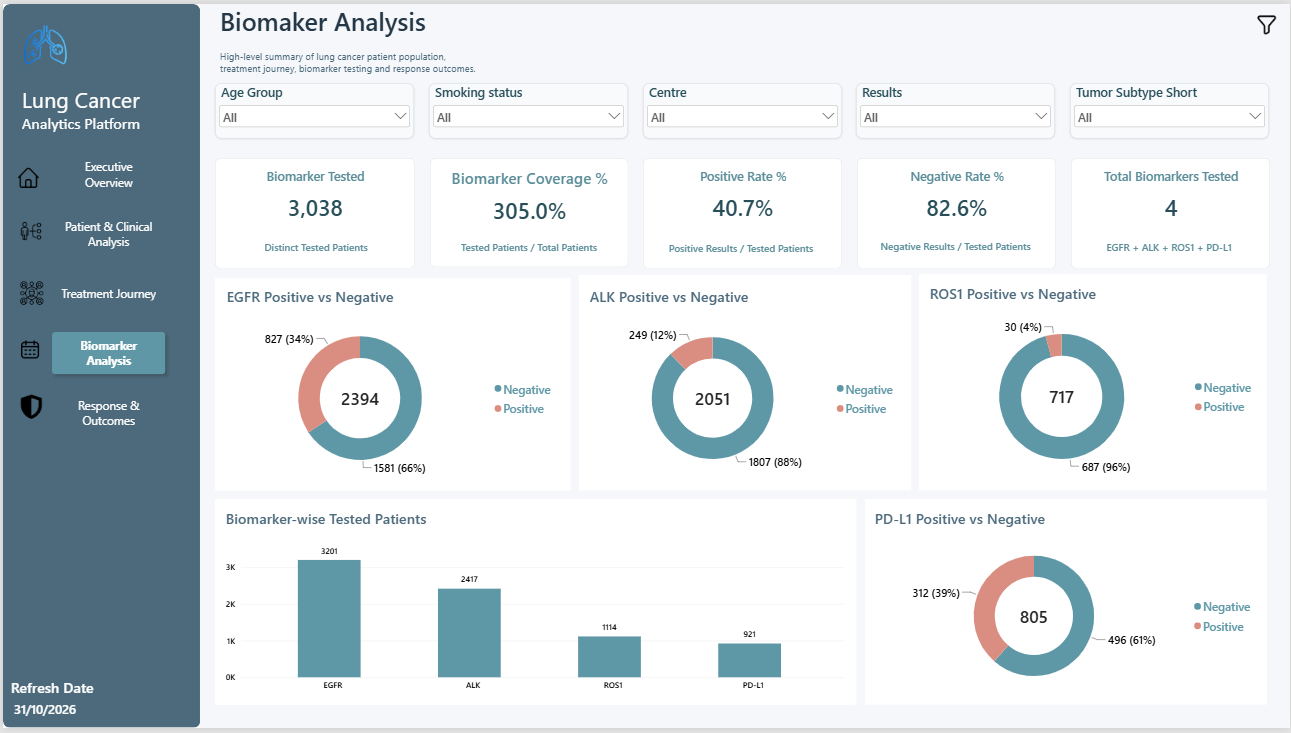

Layout of this report page (visuals, bound fields, positions):
{"tool":"powerbi","page":{"name":"Biomarker Analysis","canvas":[1920,1080],"ordinal":3},"visuals":[{"type":"shape","title":"Plane","box":[0,0,294.5,1080.4],"z":0,"group":"g1"},{"type":"group","id":"g1","title":"Filter Plane","box":[0,0,294.5,1080.4],"z":0,"group":"g4"},{"type":"slicer","fields":{"Values":["Dim_Patient.Tumor Subtype Short"]},"box":[1592.2,118.1,297,82.9],"z":0,"group":"g6"},{"type":"cardVisual","fields":{"Data":["overall_biomarker.Biomarker Tested"]},"box":[316.3,229.7,298.7,165.8],"z":0,"group":"g3"},{"type":"image","box":[24.1,302.3,36.3,72.7],"z":0,"group":"g2"},{"type":"shape","box":[859.9,404.8,495.8,321.5],"z":0},{"type":"shape","box":[1285.4,738.6,600.1,306.9],"z":0,"group":"g5"},{"type":"textbox","box":[11.4,1006.2,174.9,31.8],"z":0,"group":"g7"},{"type":"image","box":[27.8,16.7,69.7,89.1],"z":1000,"group":"g1"},{"type":"slicer","fields":{"Values":["overall_biomarker.Results"]},"box":[1273.2,118.1,297,82.9],"z":1000,"group":"g6"},{"type":"pageNavigator","box":[63.6,213.8,187.1,438.2],"z":1000,"group":"g4"},{"type":"shape","box":[1367.4,402.9,519.1,323.4],"z":1000},{"type":"image","box":[24.1,576.5,36.6,50.4],"z":1000,"group":"g2"},{"type":"donutChart","title":"PD-L1 Positive vs Negative","fields":{"Category":["overall_biomarker.Results"],"Y":["Count(overall_biomarker.patient id)"]},"box":[1284.5,738.8,602.1,306.9],"z":1000,"group":"g5"},{"type":"cardVisual","fields":{"Data":["Dim_Patient.Refresh Date Display"]},"box":[0,1038,156.7,31],"z":1000,"group":"g7"},{"type":"textbox","box":[323.5,0,655.7,109.8],"z":2000},{"type":"slicer","fields":{"Values":["Dim_Patient.Smoking status (Smoker, Nonsmoker, Exsmoker)"]},"box":[635.1,118.1,297,82.9],"z":2000,"group":"g6"},{"type":"textbox","box":[27.8,120.5,183.4,92.7],"z":2000,"group":"g1"},{"type":"image","box":[23.1,228.2,31.4,61.6],"z":2000,"group":"g2"},{"type":"cardVisual","fields":{"Data":["overall_biomarker.Negative Rate %"]},"box":[1274.1,229.7,297.9,165],"z":2000,"group":"g3"},{"type":"slicer","fields":{"Values":["Dim_Patient.Age Group"]},"box":[315.7,118.1,297.4,83.3],"z":3000,"group":"g6"},{"type":"group","id":"g2","title":"Group 3","box":[23.1,228.2,37.6,398.6],"z":3000,"group":"g1"},{"type":"cardVisual","fields":{"Data":["overall_biomarker.Positive Rate %"]},"box":[954.8,229.7,297.9,165.8],"z":3000,"group":"g3"},{"type":"image","box":[25.9,405.8,34.8,50.4],"z":3000,"group":"g2"},{"type":"shape","box":[315.7,408.7,530.7,317.6],"z":3000},{"type":"slicer","fields":{"Values":["Dim_Patient.Centre "]},"box":[954.1,118.1,297,82.9],"z":4000,"group":"g6"},{"type":"cardVisual","fields":{"Data":["overall_biomarker.Total Biomarkers Tested"]},"box":[1593.4,229.7,297.9,165.8],"z":4000,"group":"g3"},{"type":"donutChart","title":"ALK Positive vs Negative","fields":{"Category":["overall_biomarker.Results"],"Y":["Count(overall_biomarker.patient id)"]},"box":[859.9,406.7,493.9,319.6],"z":4000},{"type":"image","box":[27.7,481.3,27.5,67.2],"z":4000,"group":"g2"},{"type":"donutChart","title":"ROS1 Positive vs Negative","fields":{"Category":["overall_biomarker.Results"],"Y":["Count(overall_biomarker.patient id)"]},"box":[1367.4,402.9,521,323.4],"z":5000},{"type":"donutChart","title":"EGFR Positive vs Negative","fields":{"Category":["overall_biomarker.Results"],"Y":["Count(overall_biomarker.patient id)"]},"box":[317.6,406.7,524.9,319.6],"z":6000},{"type":"shape","box":[318,738.2,956.2,307],"z":7000},{"type":"group","id":"g3","title":"KPIs","box":[316.3,229.7,1575,165.8],"z":8000},{"type":"columnChart","title":"Biomarker-wise Tested Patients","fields":{"Category":["overall_biomarker.Biomarker"],"Y":["CountNonNull(overall_biomarker.patient id)"]},"box":[317.1,738.6,955.3,307.1],"z":9000},{"type":"group","id":"g4","title":"Group 6","box":[0,0,294.5,1080.4],"z":10000},{"type":"image","box":[1867,0,38,61],"z":11000},{"type":"group","id":"g5","title":"Group 1","box":[1284.5,738.6,602.1,307.1],"z":13000},{"type":"cardVisual","fields":{"Data":["Dim_Patient.Biomarker Coverage %"]},"box":[637.1,229.7,296.1,163.4],"z":14000},{"type":"group","id":"g6","title":"Group 2","box":[315.7,118.1,1573.5,83.3],"z":15000},{"type":"textbox","box":[681.8,352.5,206.1,43],"z":16000},{"type":"textbox","box":[970.3,354.4,262.9,43],"z":17000},{"type":"textbox","box":[1300.3,350.5,244,43],"z":18000},{"type":"textbox","box":[1627.1,352.9,227.4,43],"z":19000},{"type":"textbox","box":[354.4,352.5,227.4,43],"z":20000},{"type":"group","id":"g7","title":"Group 1","box":[0,1006.2,186.2,62.8],"z":20001}]}

Visuals, with their boxes in screenshot pixels (x1, y1, x2, y2), scaled from the page's 1920x1080 canvas onto the 1291x733 screenshot:
"Plane" shape: (x1=0, y1=0, x2=198, y2=732)
"Filter Plane" group: (x1=0, y1=0, x2=198, y2=732)
slicer - Dim_Patient.Tumor Subtype Short: (x1=1071, y1=80, x2=1270, y2=136)
cardVisual - overall_biomarker.Biomarker Tested: (x1=213, y1=156, x2=414, y2=268)
image: (x1=16, y1=205, x2=41, y2=255)
shape: (x1=578, y1=275, x2=912, y2=493)
shape: (x1=864, y1=501, x2=1268, y2=710)
textbox: (x1=8, y1=683, x2=125, y2=704)
image: (x1=19, y1=11, x2=66, y2=72)
slicer - overall_biomarker.Results: (x1=856, y1=80, x2=1056, y2=136)
pageNavigator: (x1=43, y1=145, x2=169, y2=443)
shape: (x1=919, y1=273, x2=1268, y2=493)
image: (x1=16, y1=391, x2=41, y2=425)
"PD-L1 Positive vs Negative" donutChart: (x1=864, y1=501, x2=1269, y2=710)
cardVisual - Dim_Patient.Refresh Date Display: (x1=0, y1=704, x2=105, y2=726)
textbox: (x1=218, y1=0, x2=658, y2=75)
slicer - Dim_Patient.Smoking status (Smoker, Nonsmoker, Exsmoker): (x1=427, y1=80, x2=627, y2=136)
textbox: (x1=19, y1=82, x2=142, y2=145)
image: (x1=16, y1=155, x2=37, y2=197)
cardVisual - overall_biomarker.Negative Rate %: (x1=857, y1=156, x2=1057, y2=268)
slicer - Dim_Patient.Age Group: (x1=212, y1=80, x2=412, y2=137)
"Group 3" group: (x1=16, y1=155, x2=41, y2=425)
cardVisual - overall_biomarker.Positive Rate %: (x1=642, y1=156, x2=842, y2=268)
image: (x1=17, y1=275, x2=41, y2=310)
shape: (x1=212, y1=277, x2=569, y2=493)
slicer - Dim_Patient.Centre : (x1=642, y1=80, x2=841, y2=136)
cardVisual - overall_biomarker.Total Biomarkers Tested: (x1=1071, y1=156, x2=1272, y2=268)
"ALK Positive vs Negative" donutChart: (x1=578, y1=276, x2=910, y2=493)
image: (x1=19, y1=327, x2=37, y2=372)
"ROS1 Positive vs Negative" donutChart: (x1=919, y1=273, x2=1270, y2=493)
"EGFR Positive vs Negative" donutChart: (x1=214, y1=276, x2=566, y2=493)
shape: (x1=214, y1=501, x2=857, y2=709)
"KPIs" group: (x1=213, y1=156, x2=1272, y2=268)
"Biomarker-wise Tested Patients" columnChart: (x1=213, y1=501, x2=856, y2=710)
"Group 6" group: (x1=0, y1=0, x2=198, y2=732)
image: (x1=1255, y1=0, x2=1281, y2=41)
"Group 1" group: (x1=864, y1=501, x2=1269, y2=710)
cardVisual - Dim_Patient.Biomarker Coverage %: (x1=428, y1=156, x2=627, y2=267)
"Group 2" group: (x1=212, y1=80, x2=1270, y2=137)
textbox: (x1=458, y1=239, x2=597, y2=268)
textbox: (x1=652, y1=241, x2=829, y2=270)
textbox: (x1=874, y1=238, x2=1038, y2=267)
textbox: (x1=1094, y1=240, x2=1247, y2=269)
textbox: (x1=238, y1=239, x2=391, y2=268)
"Group 1" group: (x1=0, y1=683, x2=125, y2=726)
